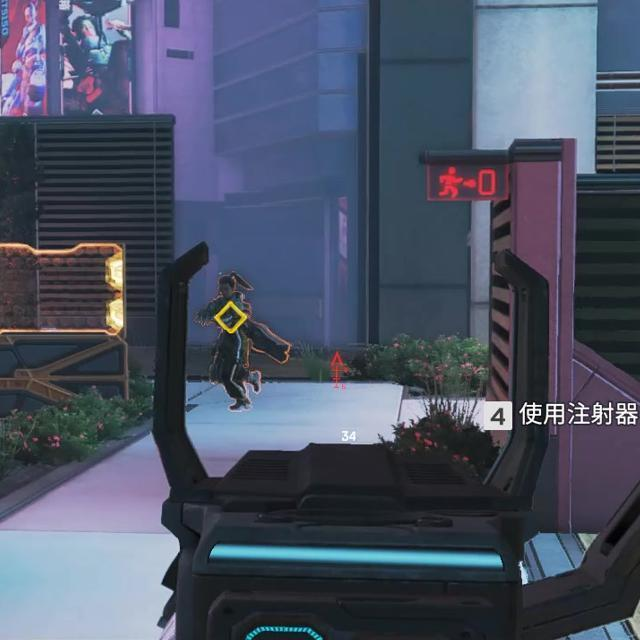avatar: (193, 269, 263, 413)
object: (213, 300, 248, 337)
